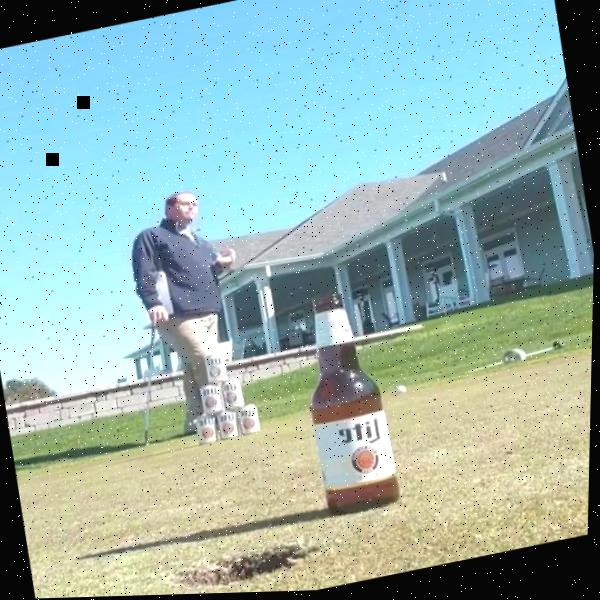ClubHead: (142, 320, 158, 333)
GolfBall: (396, 386, 409, 396)
